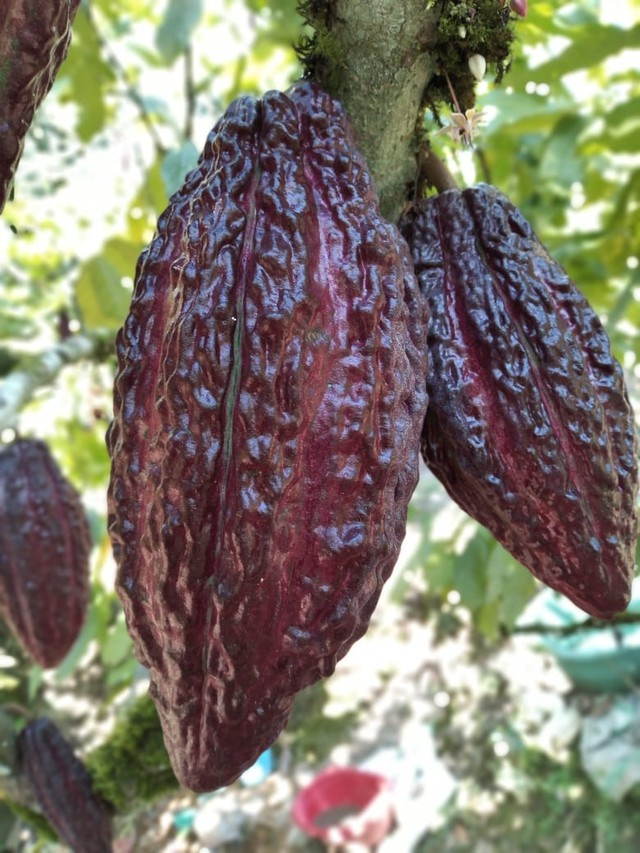Health: (89, 72, 437, 803), (415, 183, 630, 621)
